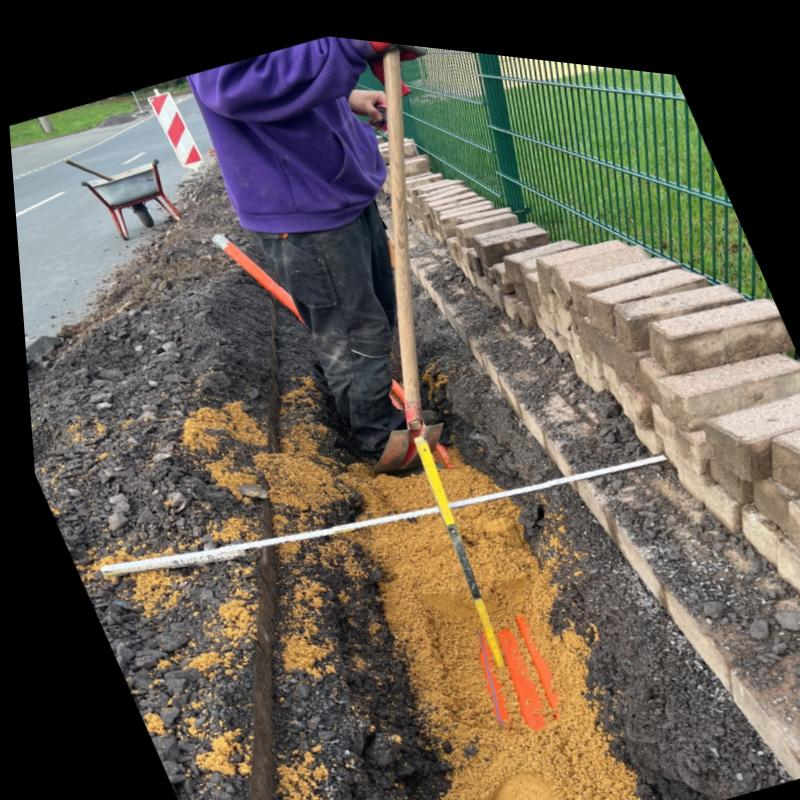Orang-Speednetrohrchen: (489, 617, 538, 719), (509, 604, 552, 702), (467, 624, 499, 708), (254, 276, 295, 310)
